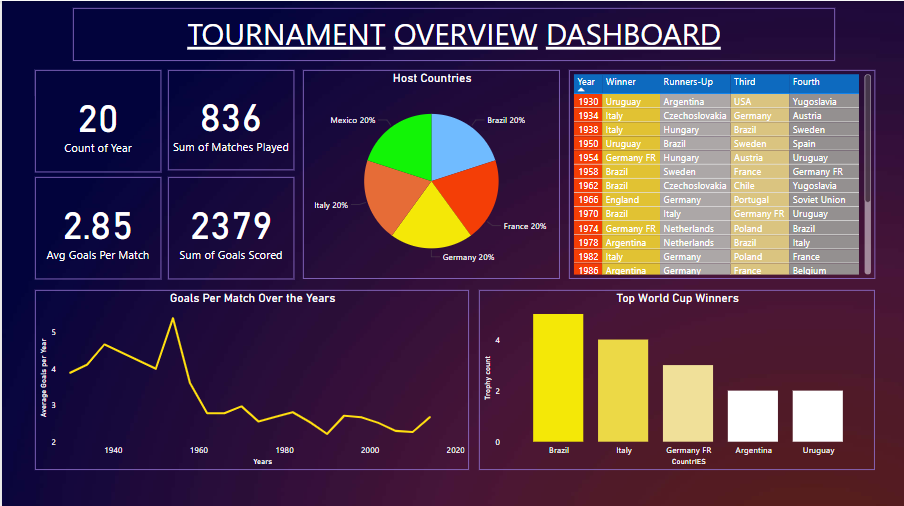

The dashboard page shown, as its layout file describes it:
{"tool":"powerbi","page":{"name":"TOURNAMENT OVERVIEW DASHBOARD","canvas":[1280,720],"ordinal":0},"visuals":[{"type":"card","fields":{"Values":["CountNonNull(WorldCups.Year)"]},"box":[46.8,97.8,178.6,144.6],"z":0},{"type":"card","fields":{"Values":["Sum(WorldCups.MatchesPlayed)"]},"box":[235.3,97.8,178.6,141.7],"z":1000},{"type":"card","fields":{"Values":["Sum(WorldCups.GoalsScored)"]},"box":[235.3,249.4,178.6,144.6],"z":2000},{"type":"card","fields":{"Values":["WorldCups.AvgGoalsPerMatch"]},"box":[46.8,249.4,178.6,144.6],"z":3000},{"type":"columnChart","title":"Top World Cup Winners","fields":{"Y":["CountNonNull(WorldCups.Year)"],"Category":["WorldCups.Winner"]},"box":[676.1,409.6,561.3,255.1],"z":4000},{"type":"lineChart","title":"Goals Per Match Over the Years","fields":{"Category":["WorldCups.Year"],"Y":["WorldCups.AvgGoalsPerMatch"]},"box":[46.8,409.6,615.1,255.1],"z":5000},{"type":"pieChart","title":"Host Countries","fields":{"Category":["WorldCups.Country"],"Y":["CountNonNull(WorldCups.Year)"]},"box":[426.6,97.8,364.3,296.2],"z":6000},{"type":"tableEx","fields":{"Values":["WorldCups.Year","WorldCups.Winner","WorldCups.Runners-Up","WorldCups.Third","WorldCups.Fourth"]},"box":[803.6,97.8,433.7,296.2],"z":7000},{"type":"textbox","box":[100.6,9.9,1080,75.1],"z":8000}]}

Visuals, with their boxes in screenshot pixels (x1, y1, x2, y2), scaled from the page's 1280x720 canvas onto the 904x506 screenshot:
card - CountNonNull(WorldCups.Year): bbox(33, 69, 159, 170)
card - Sum(WorldCups.MatchesPlayed): bbox(166, 69, 292, 168)
card - Sum(WorldCups.GoalsScored): bbox(166, 175, 292, 277)
card - WorldCups.AvgGoalsPerMatch: bbox(33, 175, 159, 277)
"Top World Cup Winners" columnChart: bbox(477, 288, 874, 467)
"Goals Per Match Over the Years" lineChart: bbox(33, 288, 467, 467)
"Host Countries" pieChart: bbox(301, 69, 559, 277)
tableEx - WorldCups.Year x WorldCups.Winner: bbox(568, 69, 874, 277)
textbox: bbox(71, 7, 834, 60)
